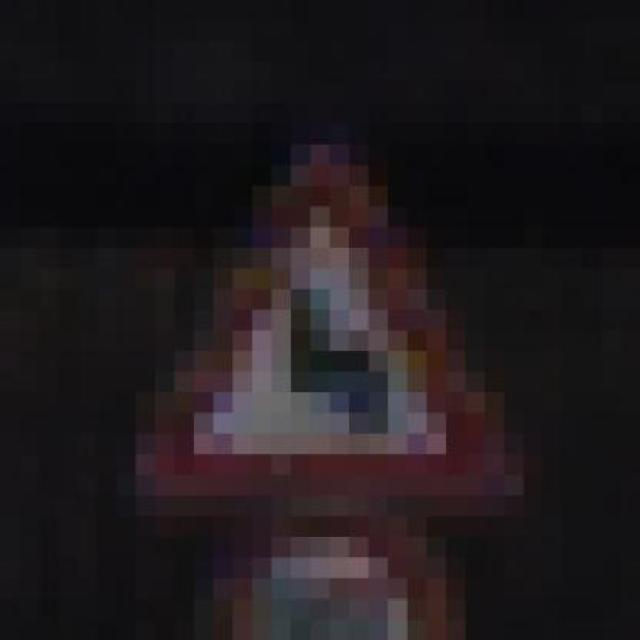Left Zig Zag Traffic: (58, 144, 504, 496)
